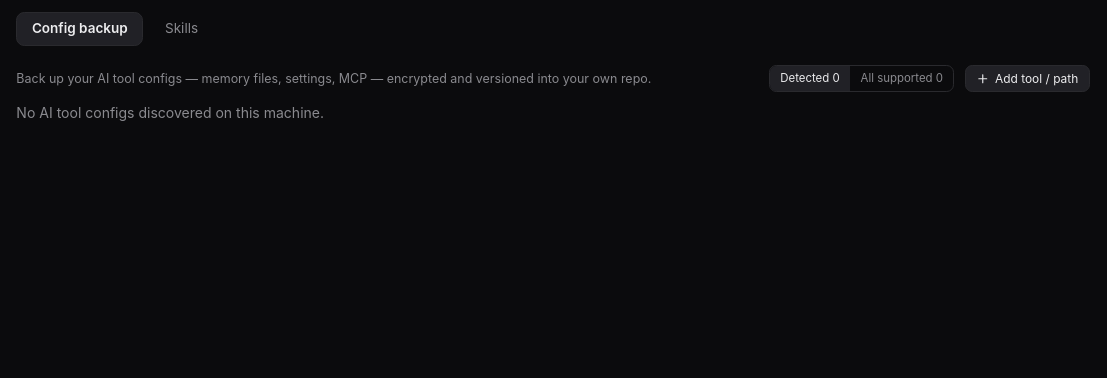
Test case: AiTools container › switches to Skills tab on click
Click the button "Skills": (182, 29) [150,12,214,46]
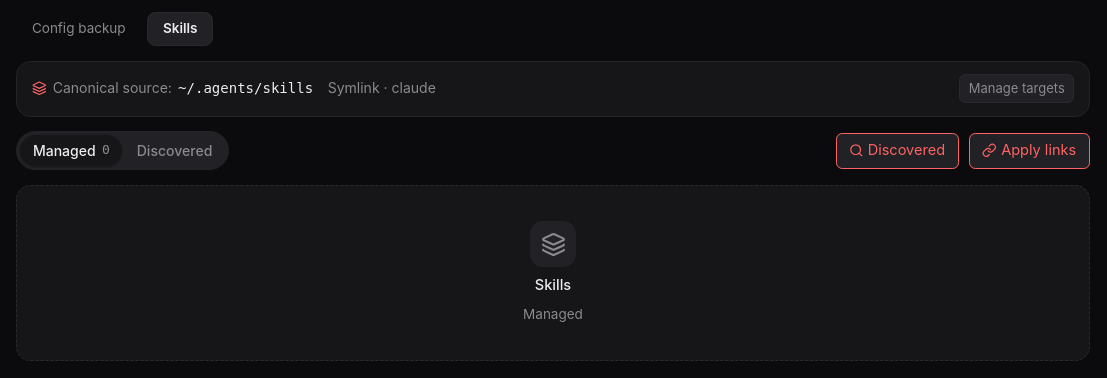
Check: the text "No AI tool configs discovered on this machine." is gone
